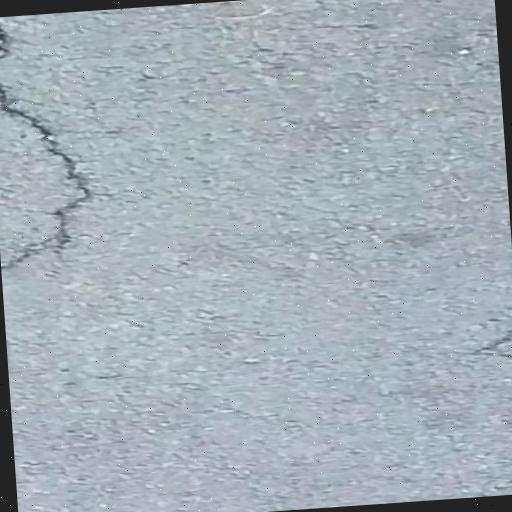spalling: (0, 22, 102, 273)
